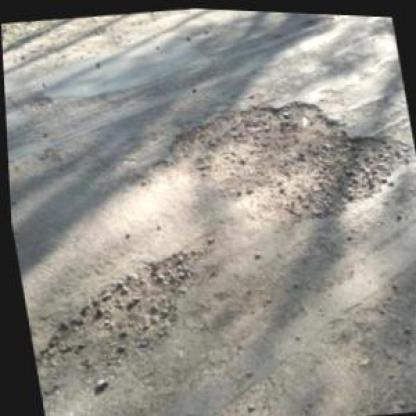pothole: (147, 76, 415, 243)
